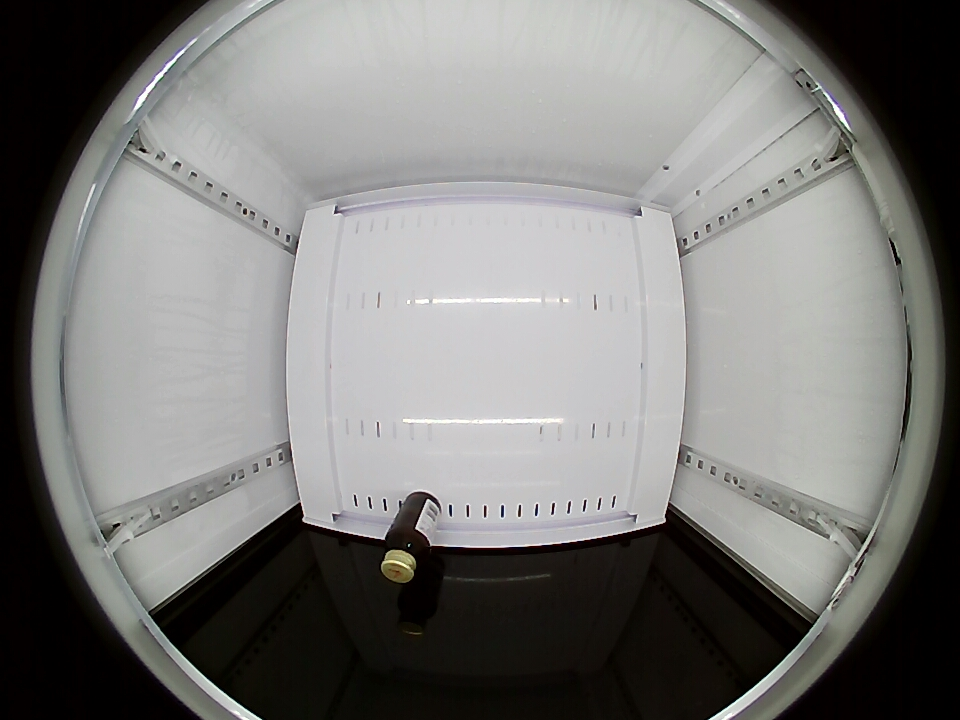libaojian: (379, 526, 434, 582)
